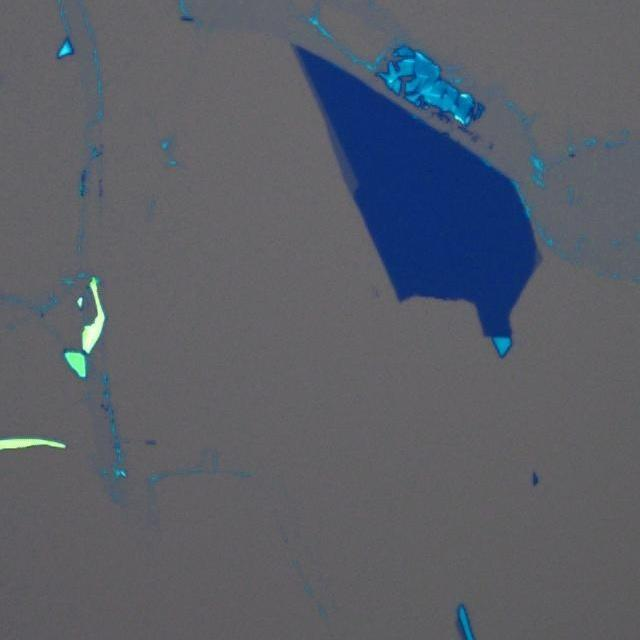monolayer-eWW4: (289, 42, 365, 196)
